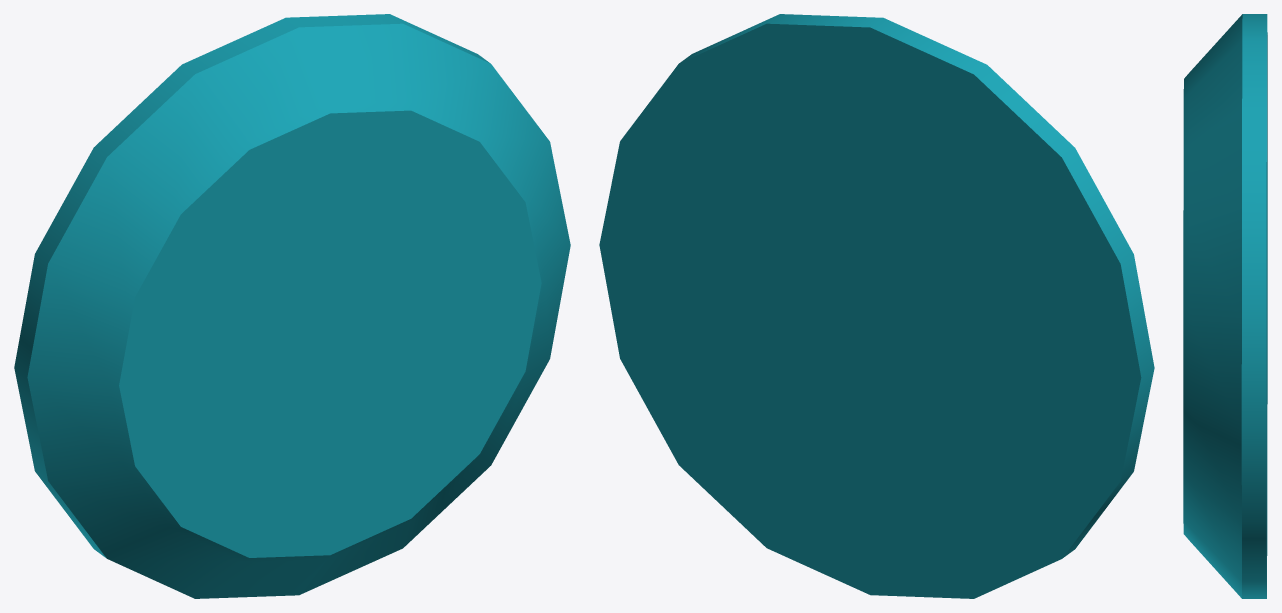
File: Flipper_Button_Base.fbx
3 views of the same model, side by side, from view 1: azimuth 30°, elevation 25°; view 2: azimuth 150°, elevation 25°; view 3: azimuth 270°, elevation 25° (orthographic). The views are drawn at different scales.
Parts seen in each view (by area): view 1: Flipper_Button_Base; view 2: Flipper_Button_Base; view 3: Flipper_Button_Base.
Part boxes in pixels (x1,y1,x2,y2): Flipper_Button_Base: (14,14,570,598); Flipper_Button_Base: (599,14,1154,598); Flipper_Button_Base: (1183,14,1267,598).
Bounding box in the file's own units: 2.99 × 2.99 × 0.4304.
